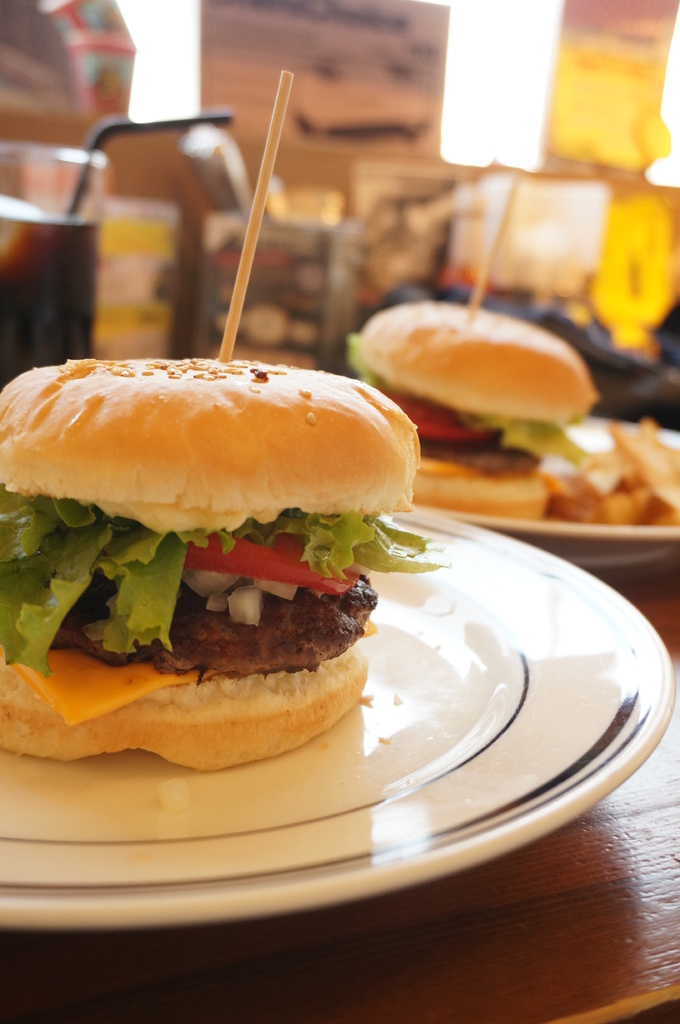Hamburger: (0, 354, 424, 764), (346, 298, 581, 508)
